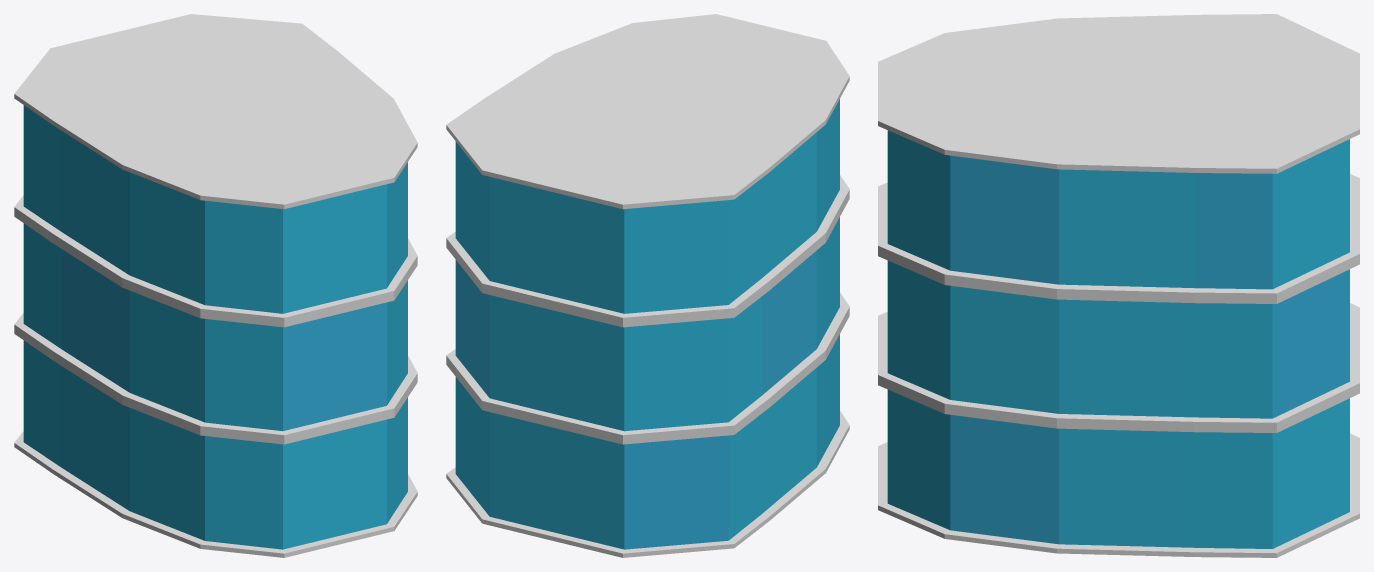
File: building_1x10_f.glb
3 views of the same model, side by side, from view 1: azimuth 30°, elevation 25°; view 2: azimuth 150°, elevation 25°; view 3: azimuth 270°, elevation 25° (orthographic). The views are drawn at different scales.
Parts seen in each view (by area): view 1: Cube.001; view 2: Cube.001; view 3: Cube.001.
Part boxes in pixels (x1,y1,x2,y2): Cube.001: [14, 14, 417, 557]; Cube.001: [446, 14, 849, 557]; Cube.001: [878, 14, 1359, 557].
Size of the model in its own units: 1.37 by 1.6 by 1.8.
